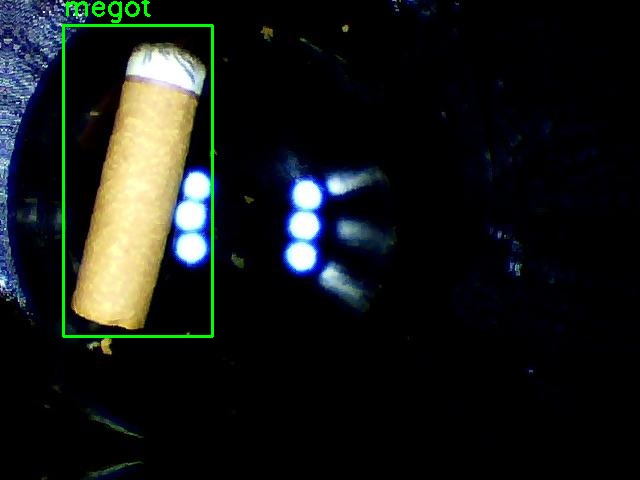megot: (63, 25, 212, 336)
